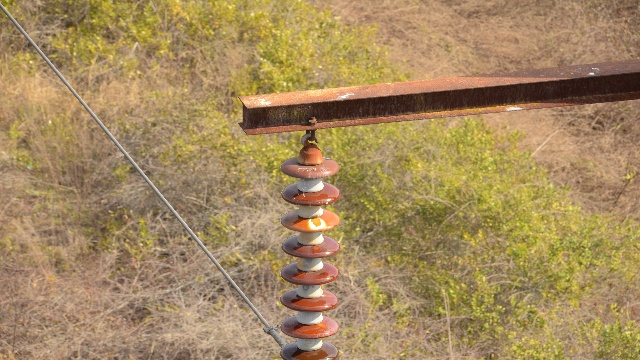insulator_unspecified: (279, 157, 344, 359)
pollution_flashover_local: (305, 215, 327, 230), (321, 290, 333, 299), (311, 243, 320, 255), (317, 322, 328, 331)
